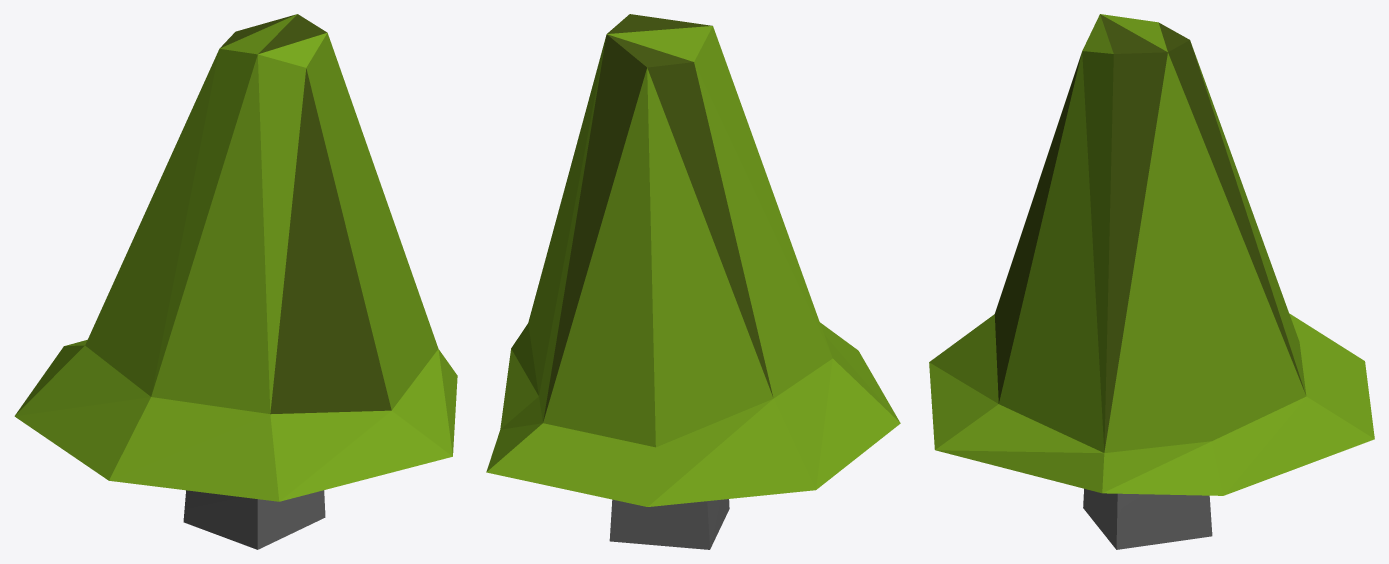
Rendered from Mushroom_Big_3.fbx.
3 renders of one model, left to right at view 1: azimuth 30°, elevation 25°; view 2: azimuth 150°, elevation 25°; view 3: azimuth 270°, elevation 25°, orthographic. The views are drawn at different scales.
Parts seen in each view (by area): view 1: Mushroom_Big_3; view 2: Mushroom_Big_3; view 3: Mushroom_Big_3.
Boxes of the visible parts, <box> form: Mushroom_Big_3: <box>14,14,457,549</box>; Mushroom_Big_3: <box>486,14,900,549</box>; Mushroom_Big_3: <box>929,14,1374,549</box>.
Bounding box in the file's own units: 46.82 × 58.29 × 47.27.
